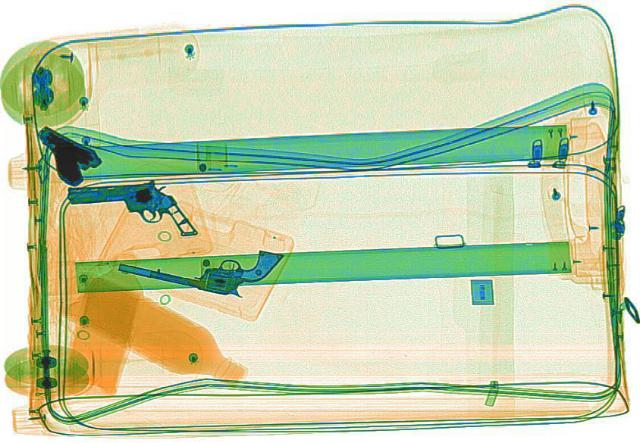Gun: (52, 165, 222, 238), (113, 228, 285, 299), (14, 118, 112, 187)
